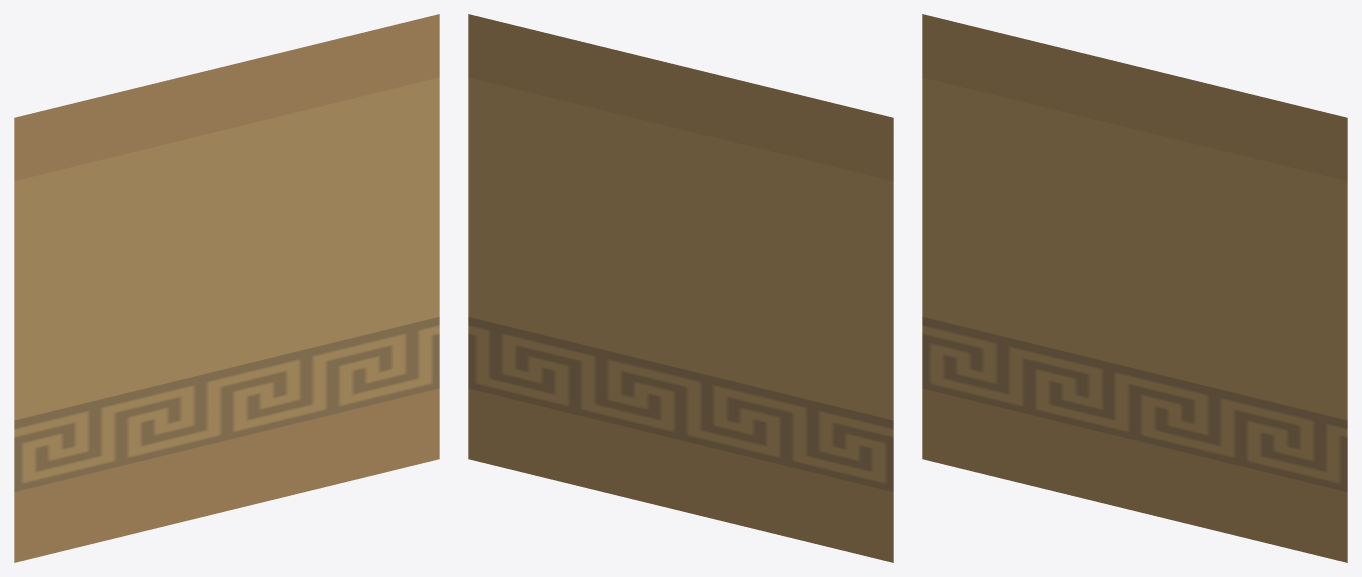
File: ST_Env_Wall_03.fbx
3 renders of one model, left to right at view 1: azimuth 30°, elevation 25°; view 2: azimuth 150°, elevation 25°; view 3: azimuth 330°, elevation 25°, orthographic.
Parts seen in each view (by area): view 1: ST_Env_Wall_03; view 2: ST_Env_Wall_03; view 3: ST_Env_Wall_03.
Boxes of the visible parts, left/top/right/bottom form: ST_Env_Wall_03: left=14, top=14, right=439, bottom=562; ST_Env_Wall_03: left=468, top=14, right=893, bottom=562; ST_Env_Wall_03: left=922, top=14, right=1347, bottom=562.
Bounding box in the file's own units: 5 × 5 × 0.
